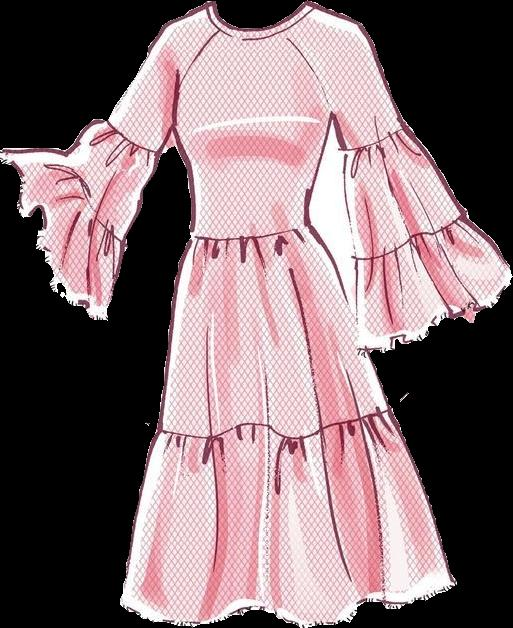Bodice: (171, 1, 333, 241)
Hemline: (118, 578, 459, 627)
Neckline: (208, 0, 308, 30)
Skirt: (120, 228, 455, 627)
Sleeve: (286, 5, 511, 353), (0, 5, 230, 323)
Sleeveline: (347, 208, 468, 259), (62, 150, 128, 243), (281, 6, 335, 118), (172, 2, 216, 93), (338, 124, 406, 153), (107, 119, 161, 154)
Waistline: (156, 405, 389, 441), (187, 220, 310, 245)
